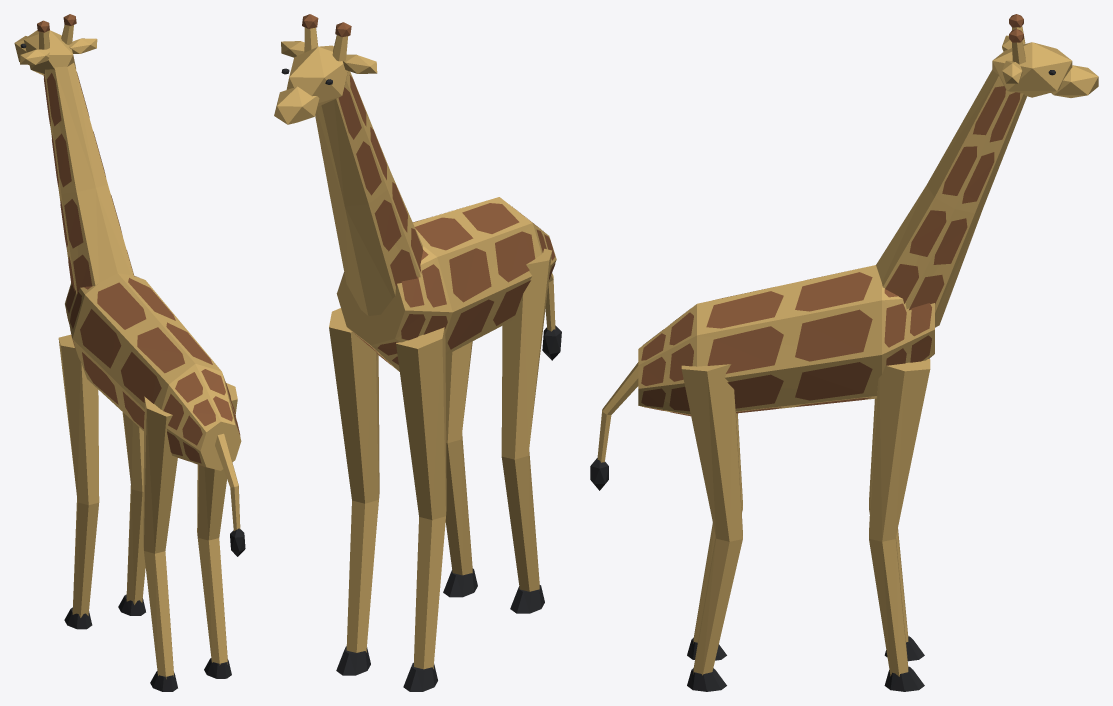
The model's file is giraffe.fbx.
3 views of the same model, side by side, from view 1: azimuth 30°, elevation 25°; view 2: azimuth 150°, elevation 25°; view 3: azimuth 270°, elevation 25° (orthographic). The views are drawn at different scales.
Parts seen in each view (by area): view 1: giraffe; view 2: giraffe; view 3: giraffe.
Part boxes in pixels (x1,y1,x2,y2): giraffe: (14, 14, 245, 691); giraffe: (274, 14, 561, 691); giraffe: (590, 14, 1098, 691).
Bounding box in the file's own units: 0.824 × 5 × 3.55.
